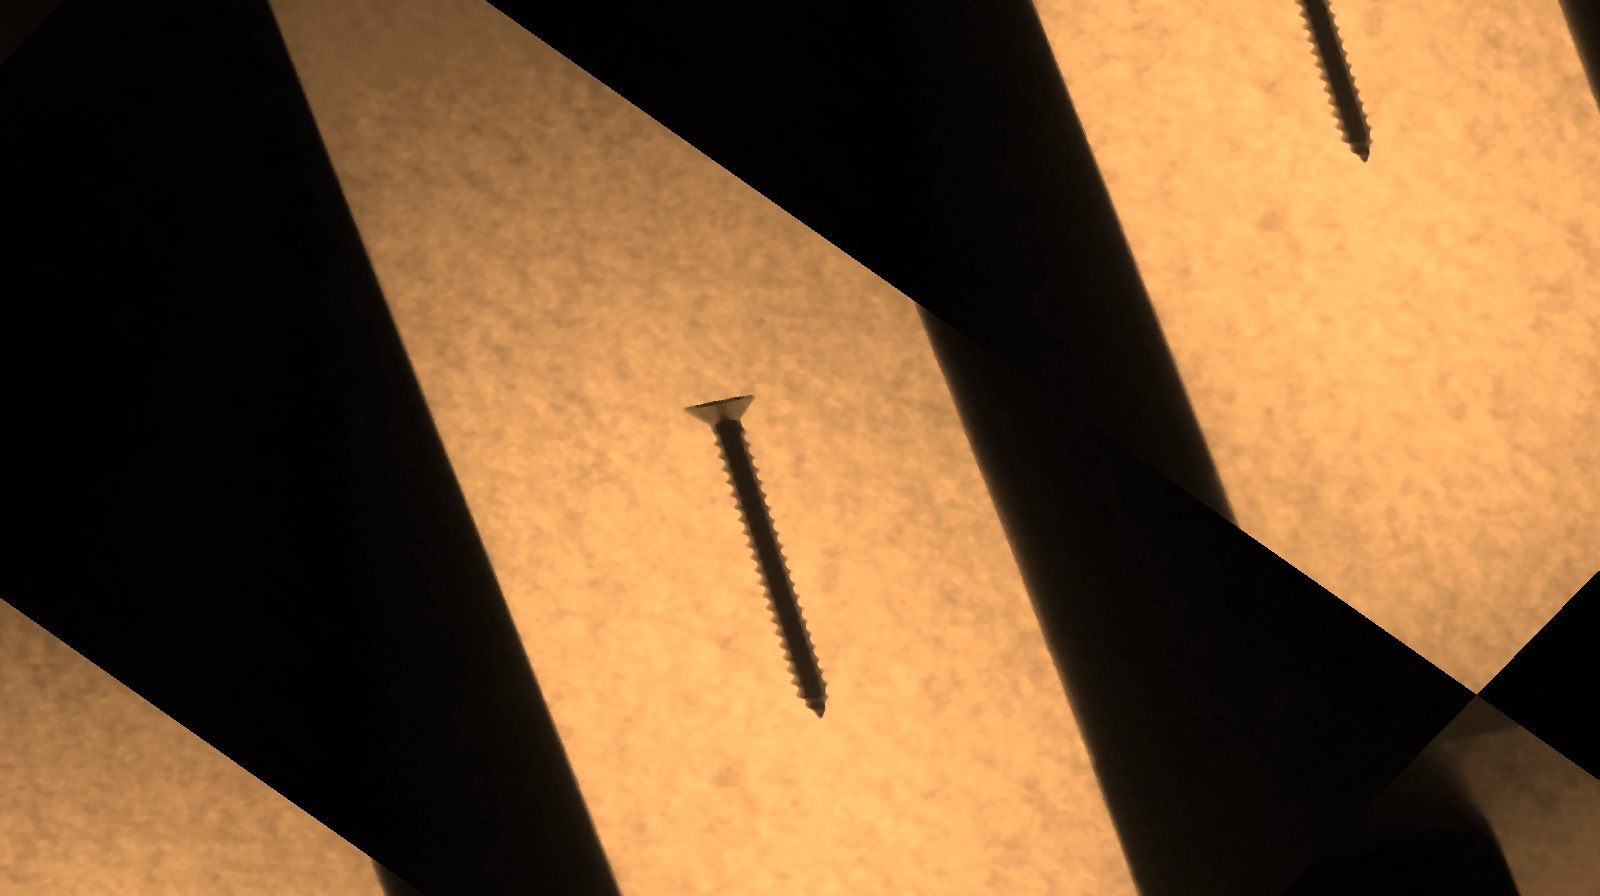S002: (537, 358, 1002, 743)
